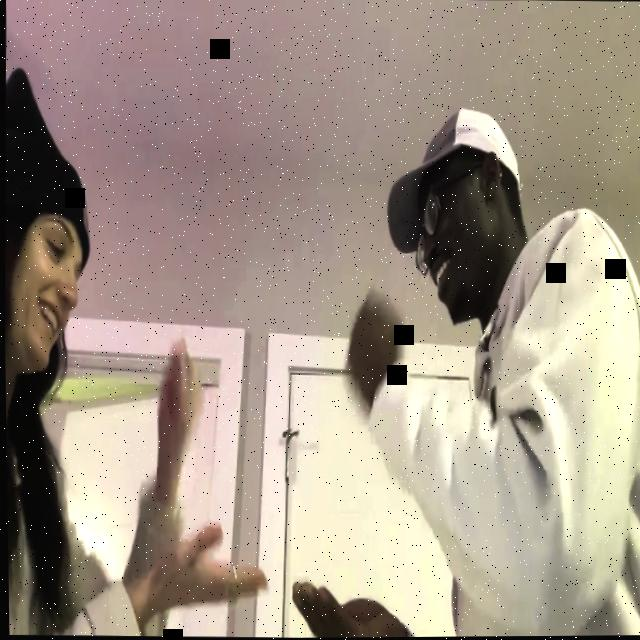Rock: (345, 295, 402, 408), (154, 326, 203, 447)
